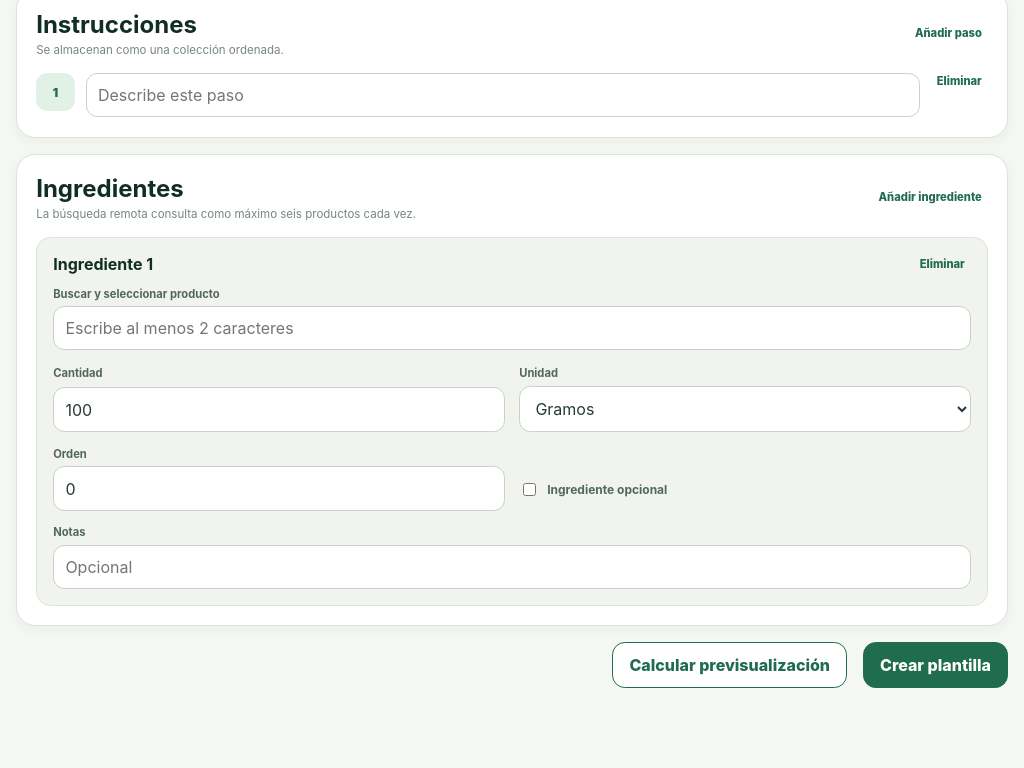
Test: MealTemplateFormPage › validates required fields before submitting
(page scrolled)
Click the button "Crear plantilla" at (936, 665), box 863,642 -> 1008,688
(page scrolled)
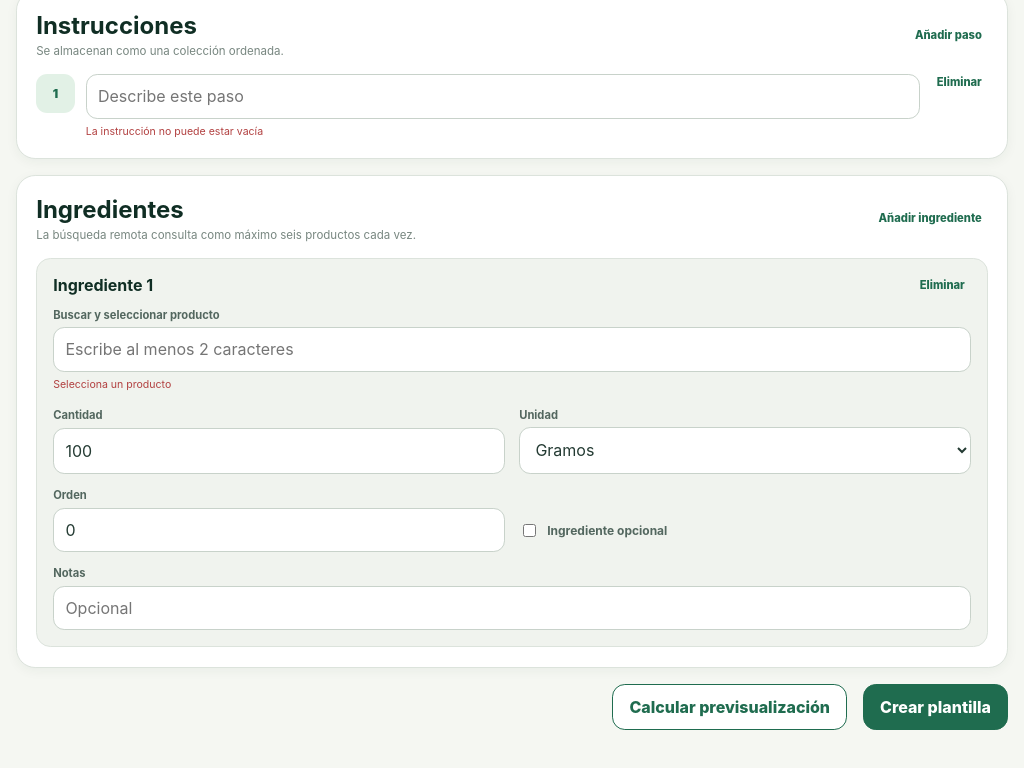
Result: the text "Selecciona un producto" is shown at 53,378 -> 171,391
